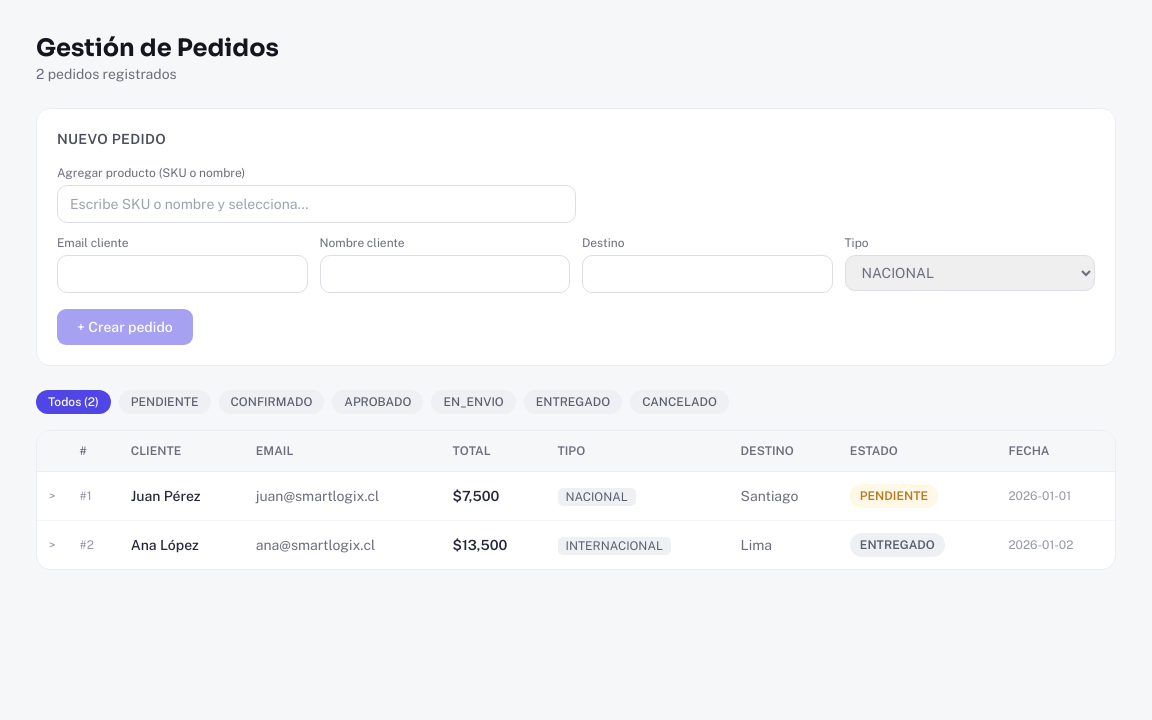
it: Pedidos › increments the cart quantity and recalculates the subtotal
Expected: the text "Juan Pérez" is shown, [119, 472, 244, 520]
Type "caja" into the field with placeholder "Escribe SKU o nombre y selecciona..." at (316, 204), box [57, 185, 576, 223]
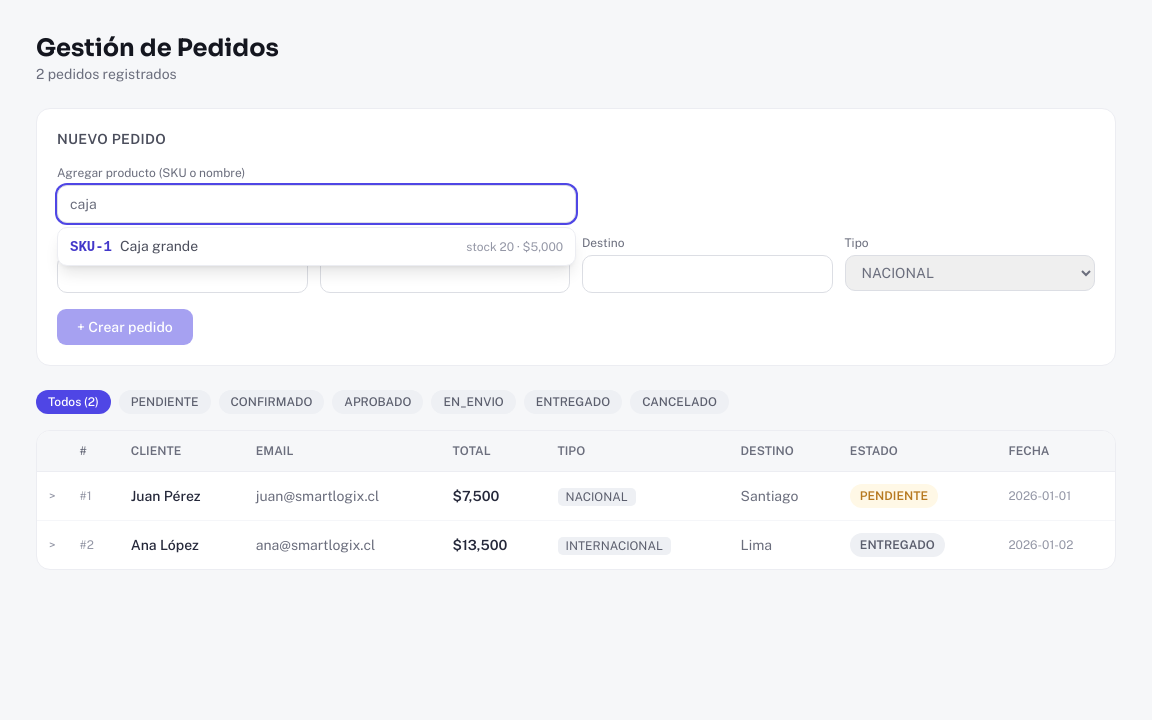
Click the text "Caja grande" at (159, 246), box [120, 238, 198, 254]
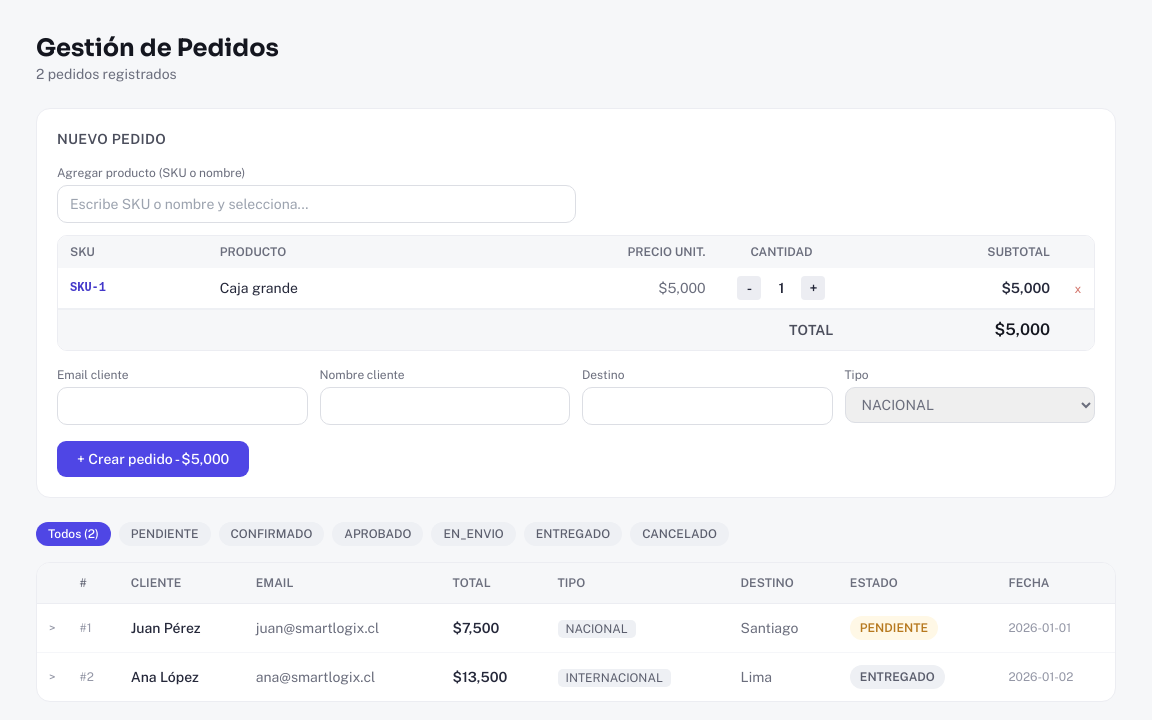
Click the button "+" at (814, 288), box [802, 276, 826, 300]
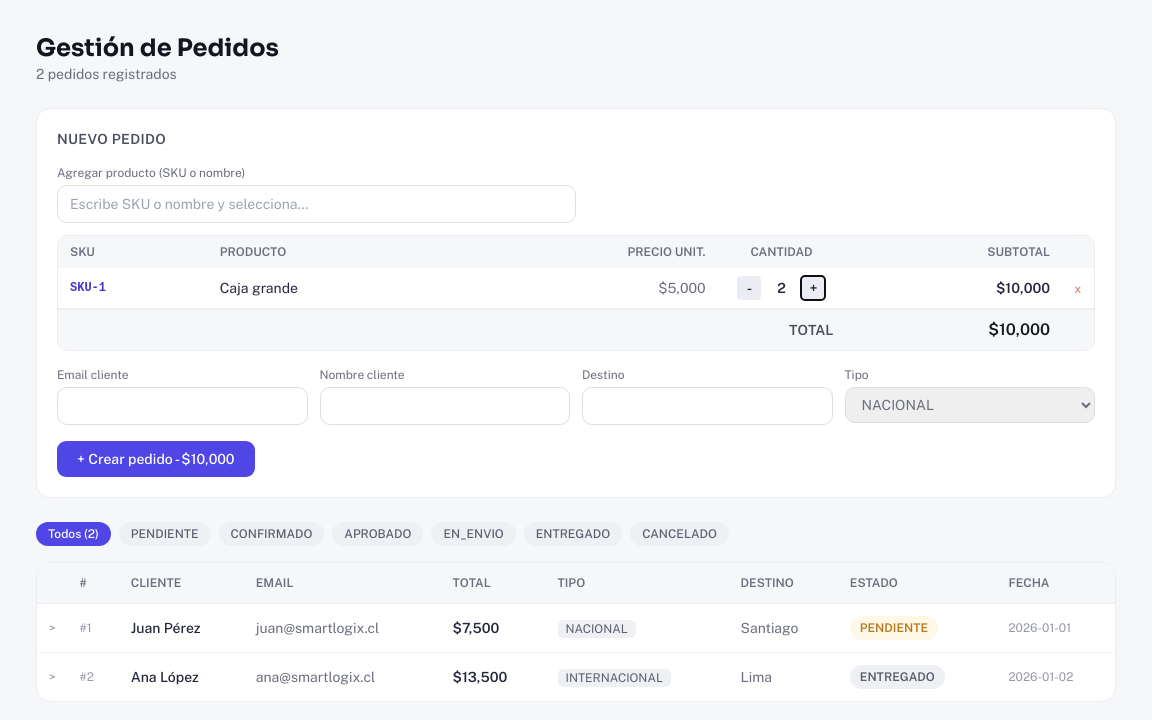
Now the text "2" is shown, box [777, 280, 786, 296]
